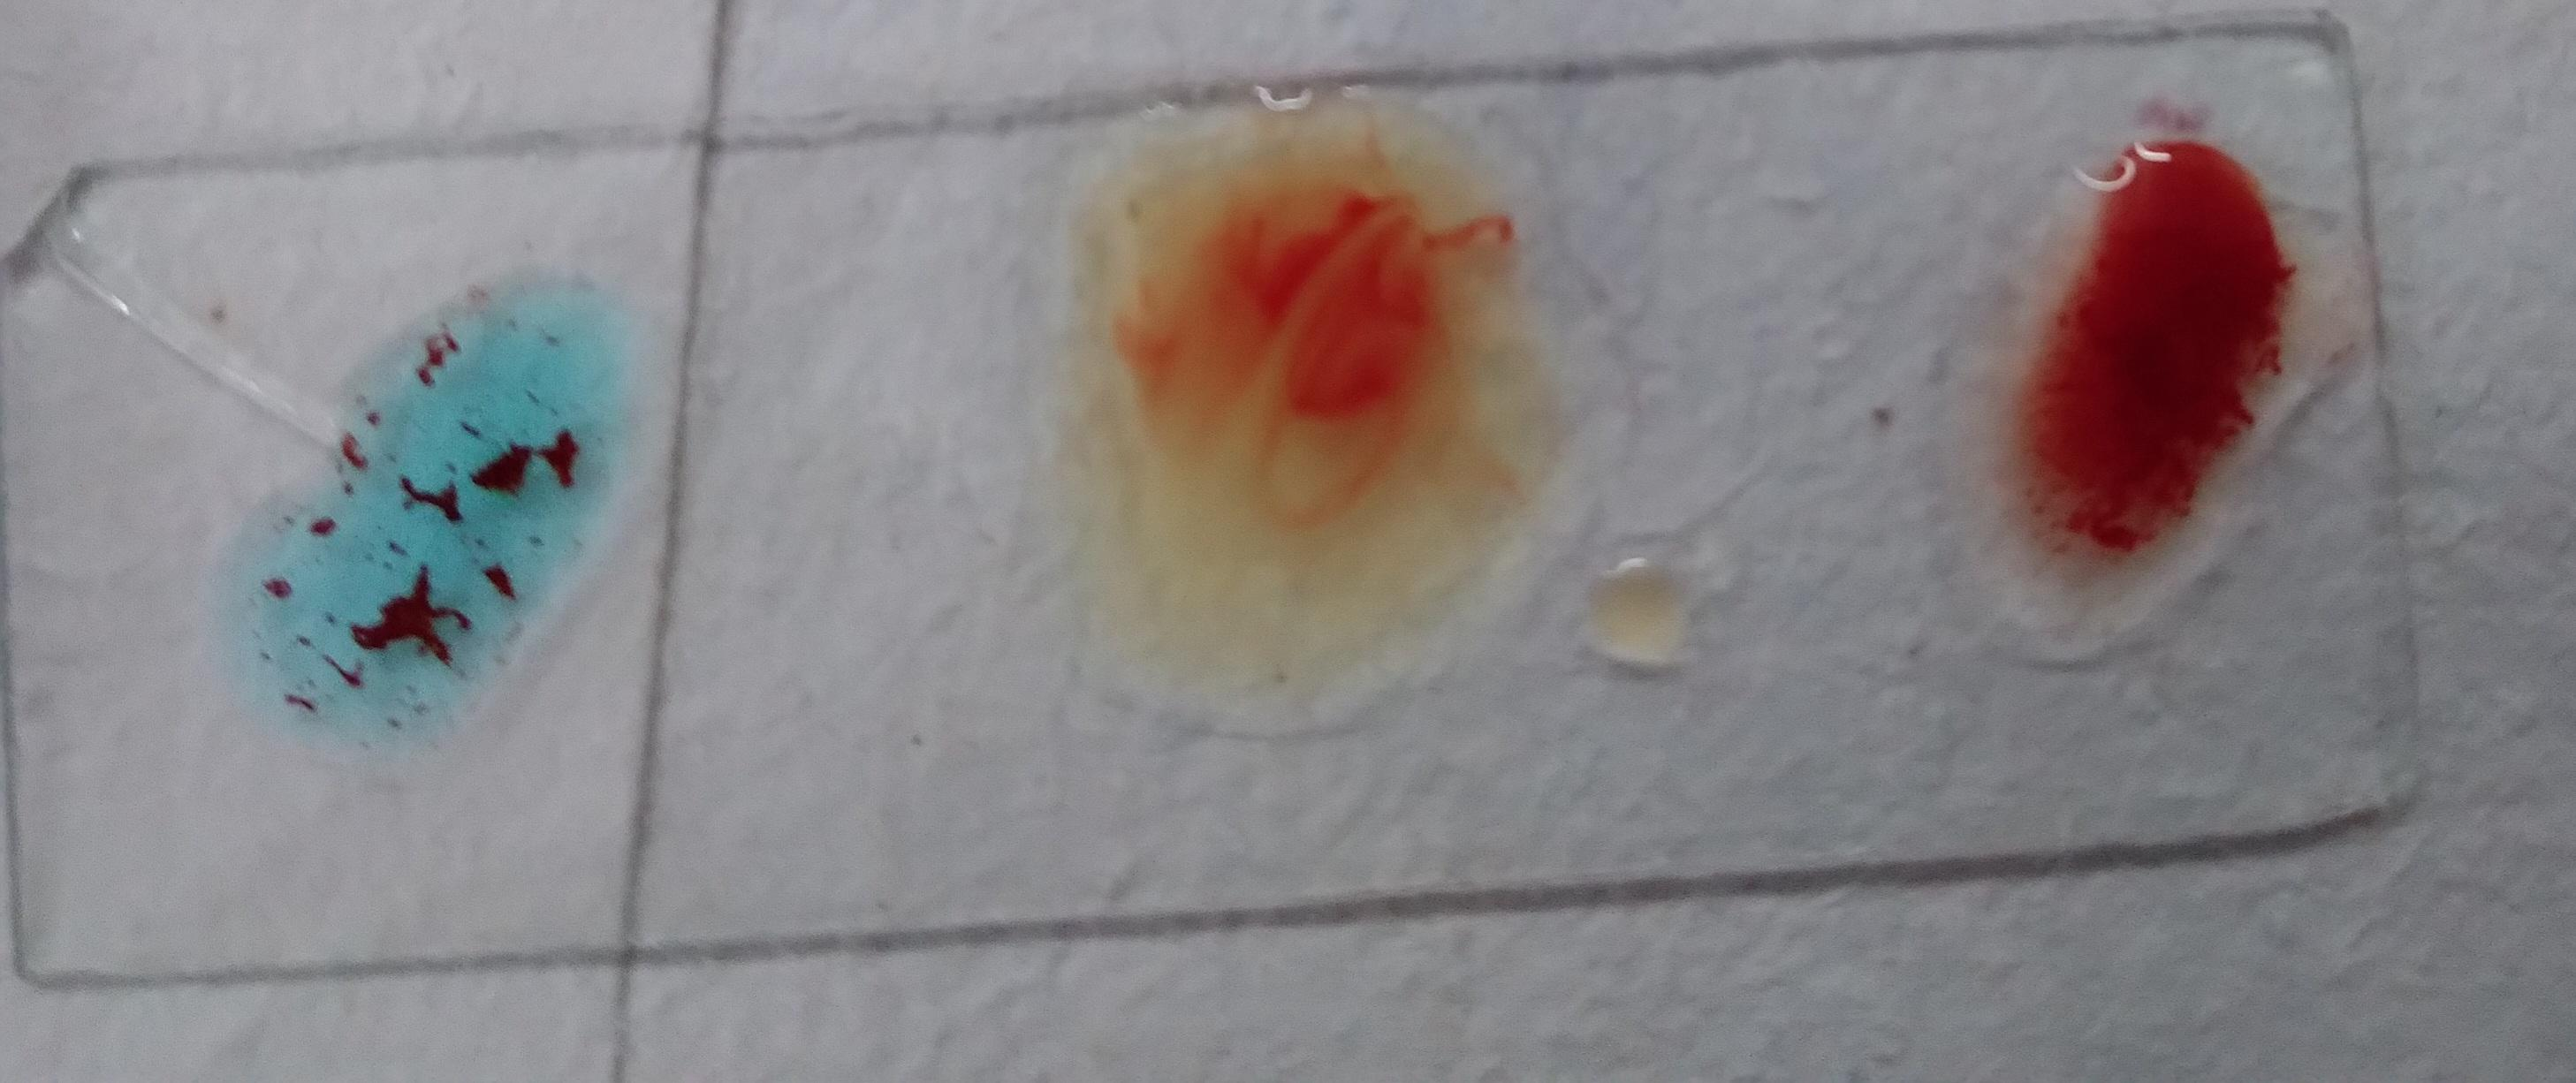A: (1916, 301, 2298, 772)
